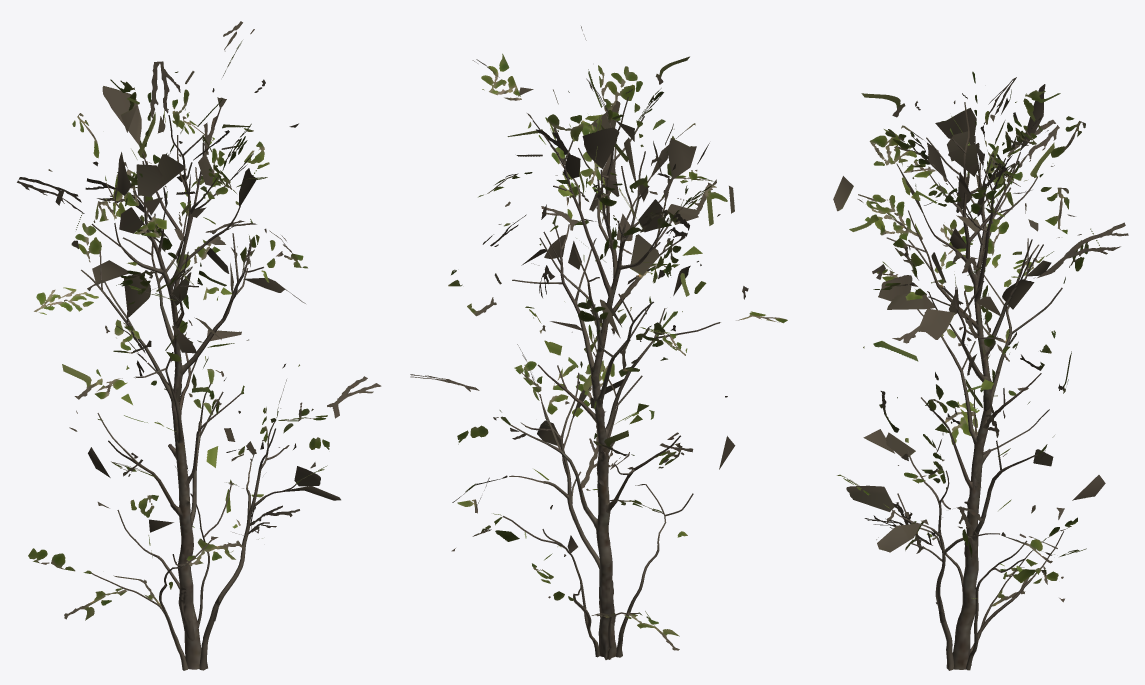
File: SM_BlackAlder_Forest_07_PP_LOD2.gltf
3 views of the same model, side by side, from view 1: azimuth 30°, elevation 25°; view 2: azimuth 150°, elevation 25°; view 3: azimuth 270°, elevation 25° (orthographic). The views are drawn at different scales.
Visible parts, largest first — view 1: SM_BlackAlder_Forest_07_PP; view 2: SM_BlackAlder_Forest_07_PP; view 3: SM_BlackAlder_Forest_07_PP.
Boxes of the visible parts, <box> form: SM_BlackAlder_Forest_07_PP: <box>17,21,381,670</box>; SM_BlackAlder_Forest_07_PP: <box>410,26,787,659</box>; SM_BlackAlder_Forest_07_PP: <box>833,71,1128,670</box>.
Bounding box in the file's own units: 4.41 × 8.26 × 3.67.
3 materials, 3 textured.
